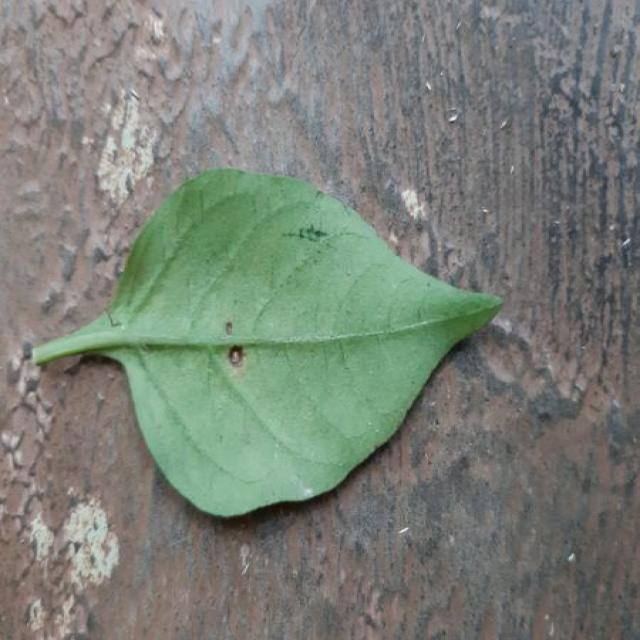chilly: (98, 169, 500, 516), (33, 169, 437, 367), (410, 405, 418, 411)
